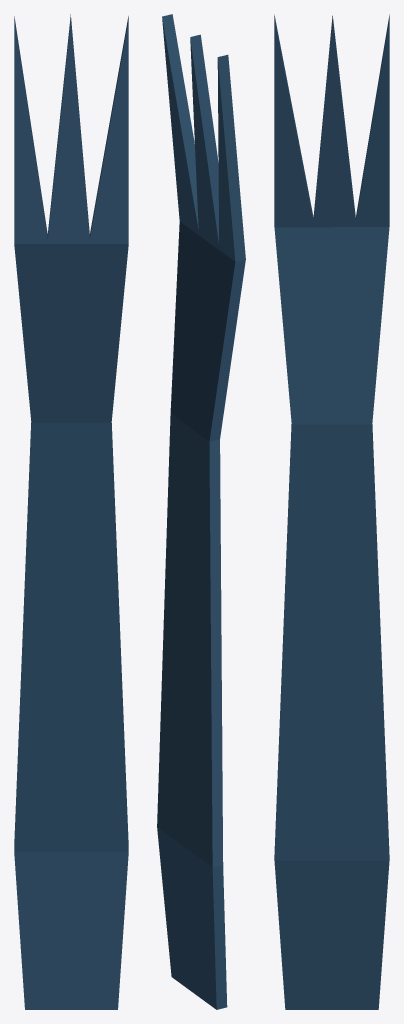
Rendered from fork.fbx.
3 views of the same model, side by side, from view 1: azimuth 90°, elevation 25°; view 2: azimuth 210°, elevation 25°; view 3: azimuth 270°, elevation 25° (orthographic). The views are drawn at different scales.
Parts seen in each view (by area): view 1: Fork; view 2: Fork; view 3: Fork.
Part boxes in pixels (<box>): Fork: <box>14,14,128,1009</box>; Fork: <box>157,14,245,1009</box>; Fork: <box>274,14,389,1009</box>.
Bounding box in the file's own units: 0.9209 × 25.21 × 2.65.
Materials: 1 (1 with a texture image).
